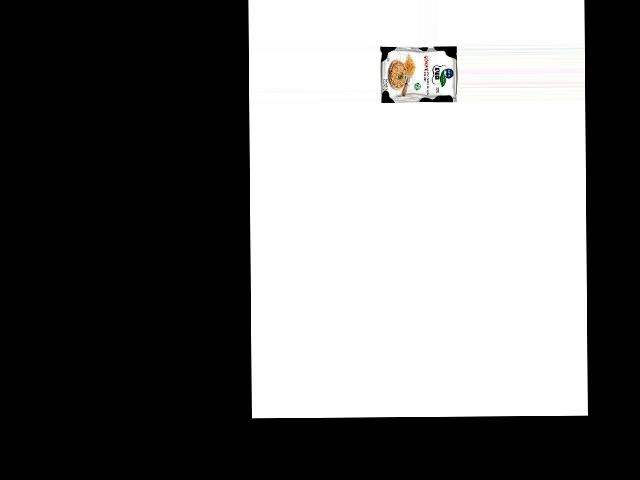cheese: (378, 44, 457, 103)
